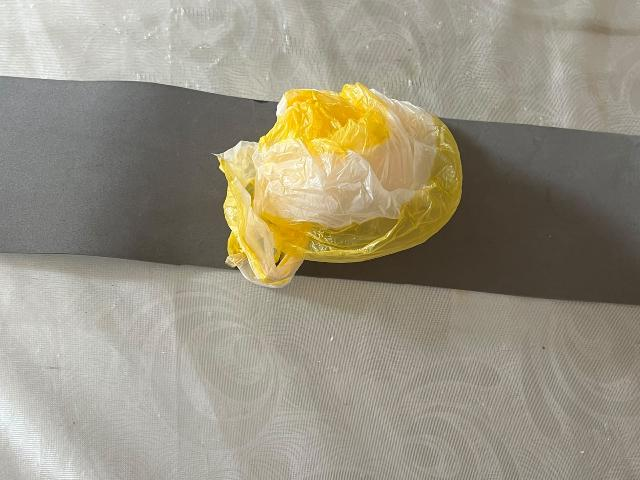LDPE: (217, 49, 546, 328)
